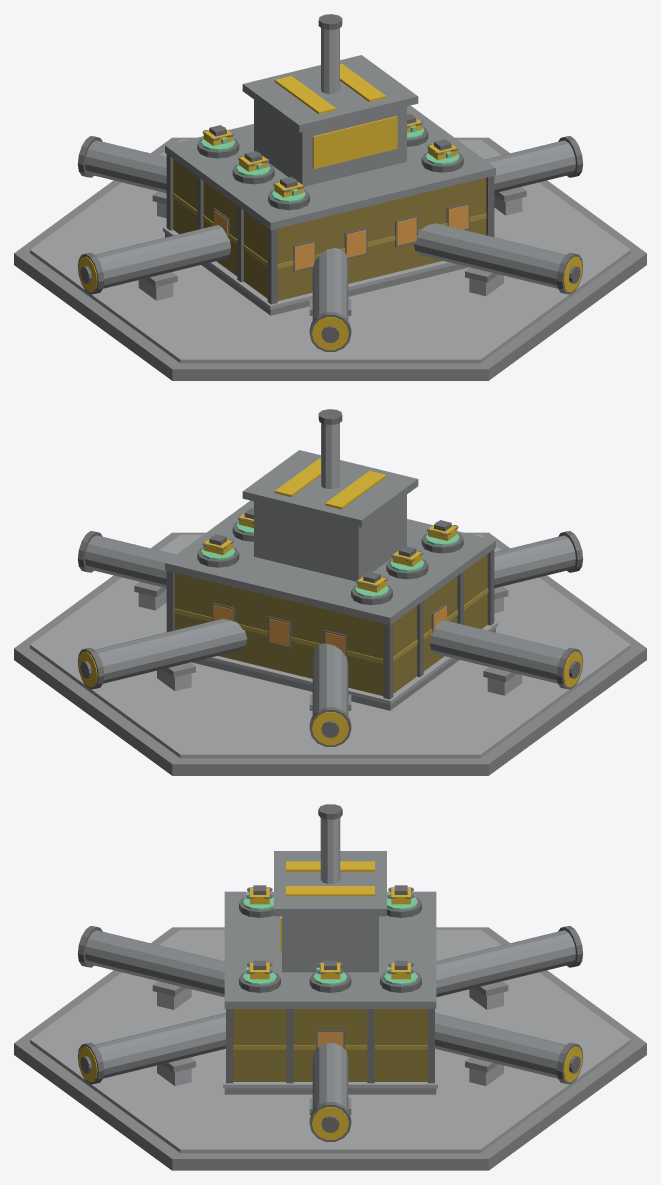
File: maintenance_building_s2_50.glb
3 renders of one model, top to bottom at view 1: azimuth 30°, elevation 25°; view 2: azimuth 150°, elevation 25°; view 3: azimuth 270°, elevation 25°, orthographic.
Parts seen in each view (by area): view 1: M_FoundRim, M_Foundation, M_Wall_S, M_RoofS, M_HangarRoof, M_Hangar, M_PipeStubSE, M_PipeStubW, M_PipeStubE, M_PipeStubNW, M_HangarOpening, M_PipeStubSW (+15 smaller); view 2: M_FoundRim, M_Foundation, M_Wall_N, M_Hangar, M_RoofN, M_HangarRoof, M_PipeStubNE, M_PipeStubW, M_PipeStubE, M_PipeStubSW, M_PipeStubNW, M_RoofS (+14 smaller); view 3: M_FoundRim, M_Foundation, M_RoofN, M_RoofS, M_Hangar, M_HangarRoof, M_PipeStubNW, M_PipeStubSW, M_PipeStubNE, M_PipeStubSE, M_Wall_S, M_Wall_N (+13 smaller).
Part boxes in pixels (x1=…): M_FoundRim: x1=30, y1=139, x2=630, y2=363; M_Foundation: x1=14, y1=137, x2=646, y2=380; M_Wall_S: x1=244, y1=178, x2=486, y2=300; M_RoofS: x1=235, y1=146, x2=495, y2=229; M_HangarRoof: x1=242, y1=55, x2=418, y2=132; M_Hangar: x1=254, y1=100, x2=406, y2=186; M_PipeStubSE: x1=413, y1=223, x2=565, y2=288; M_PipeStubW: x1=95, y1=225, x2=230, y2=288; M_PipeStubE: x1=485, y1=140, x2=575, y2=193; M_PipeStubNW: x1=85, y1=140, x2=166, y2=193; M_HangarOpening: x1=312, y1=116, x2=397, y2=168; M_PipeStubSW: x1=312, y1=248, x2=348, y2=320; M_FoundRim: x1=30, y1=534, x2=630, y2=758; M_Foundation: x1=14, y1=532, x2=646, y2=775; M_Wall_N: x1=174, y1=573, x2=416, y2=695; M_Hangar: x1=254, y1=495, x2=406, y2=581; M_RoofN: x1=165, y1=541, x2=425, y2=624; M_HangarRoof: x1=242, y1=450, x2=418, y2=527; M_PipeStubNE: x1=95, y1=618, x2=247, y2=683; M_PipeStubW: x1=430, y1=620, x2=565, y2=683; M_PipeStubE: x1=85, y1=535, x2=175, y2=588; M_PipeStubSW: x1=494, y1=535, x2=575, y2=588; M_PipeStubNW: x1=312, y1=643, x2=348, y2=715; M_RoofS: x1=236, y1=500, x2=495, y2=572; M_FoundRim: x1=30, y1=929, x2=630, y2=1153; M_Foundation: x1=14, y1=927, x2=646, y2=1170; M_RoofN: x1=366, y1=891, x2=436, y2=1008; M_RoofS: x1=224, y1=891, x2=294, y2=1008; M_Hangar: x1=282, y1=916, x2=378, y2=972; M_HangarRoof: x1=274, y1=851, x2=386, y2=916; M_PipeStubNW: x1=436, y1=930, x2=575, y2=997; M_PipeStubSW: x1=85, y1=930, x2=224, y2=997; M_PipeStubNE: x1=435, y1=1012, x2=565, y2=1078; M_PipeStubSE: x1=95, y1=1012, x2=225, y2=1078; M_Wall_S: x1=233, y1=1009, x2=286, y2=1081; M_Wall_N: x1=374, y1=1009, x2=427, y2=1081.
Bounding box in the file's own units: 3.51 × 1.68 × 3.92.
